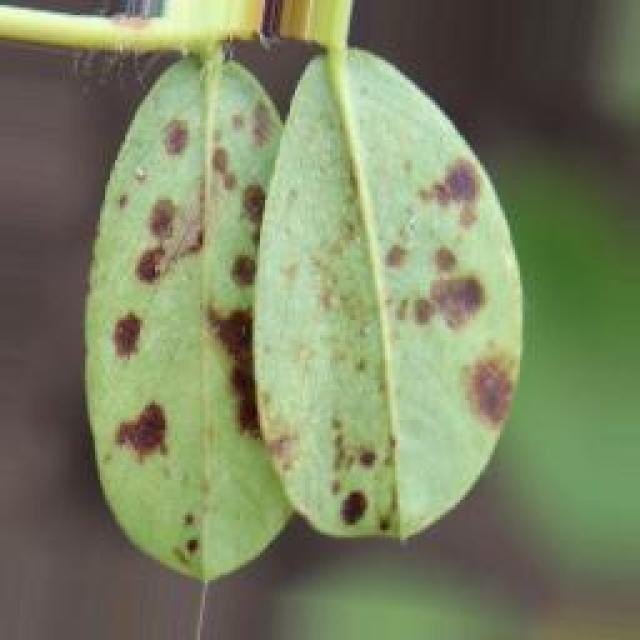Whitefly: (68, 66, 533, 548)
